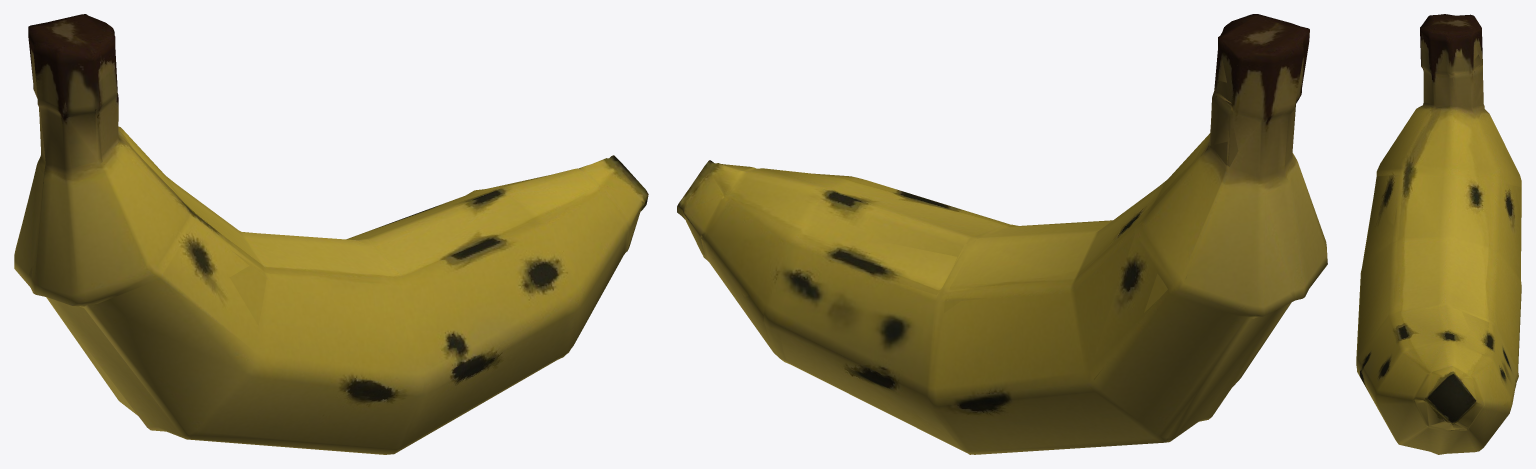
The model's file is Banana_Pickup.glb.
3 views of the same model, side by side, from view 1: azimuth 30°, elevation 25°; view 2: azimuth 150°, elevation 25°; view 3: azimuth 270°, elevation 25° (orthographic). The views are drawn at different scales.
Visible parts, largest first — view 1: tripo_node_b4aaef83-6641-4ed7-8570-d510144c84fc; view 2: tripo_node_b4aaef83-6641-4ed7-8570-d510144c84fc; view 3: tripo_node_b4aaef83-6641-4ed7-8570-d510144c84fc.
Part boxes in pixels (x1,y1,x2,y2): tripo_node_b4aaef83-6641-4ed7-8570-d510144c84fc: (14, 14, 648, 454); tripo_node_b4aaef83-6641-4ed7-8570-d510144c84fc: (677, 14, 1327, 454); tripo_node_b4aaef83-6641-4ed7-8570-d510144c84fc: (1356, 14, 1521, 454).
Size of the model in its own units: 0.998 by 0.7324 by 0.3496.
1 material, 1 textured.
